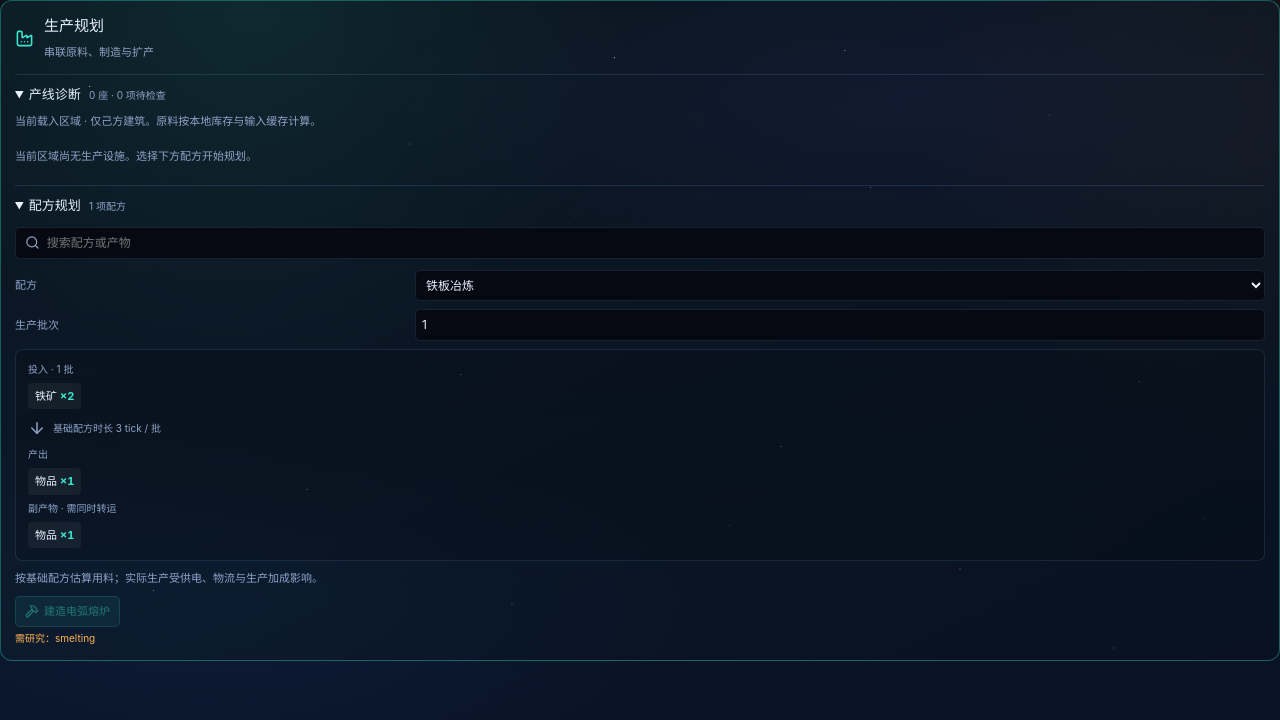
Test: ProductionPlanner › shows scaled inputs, outputs and byproducts while preventing locked construction
This screenshot has width=1280, height=720.
Replace the text in the number field labelled "生产批次" with "5" at [840, 325], box [415,309,1265,341]
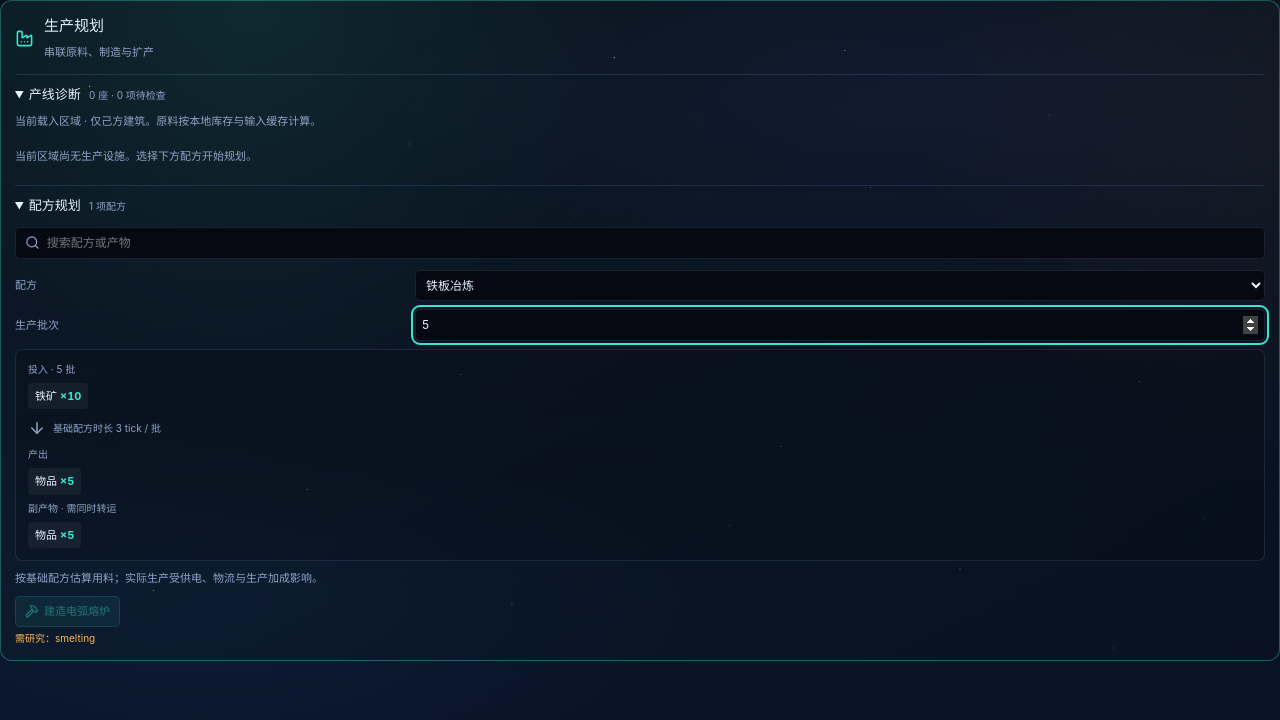
Expected: the text "×5" is shown 2 times, [60,474,74,488]; [60,528,74,542]
Now the text "×10" is shown, box [60,389,82,403]
